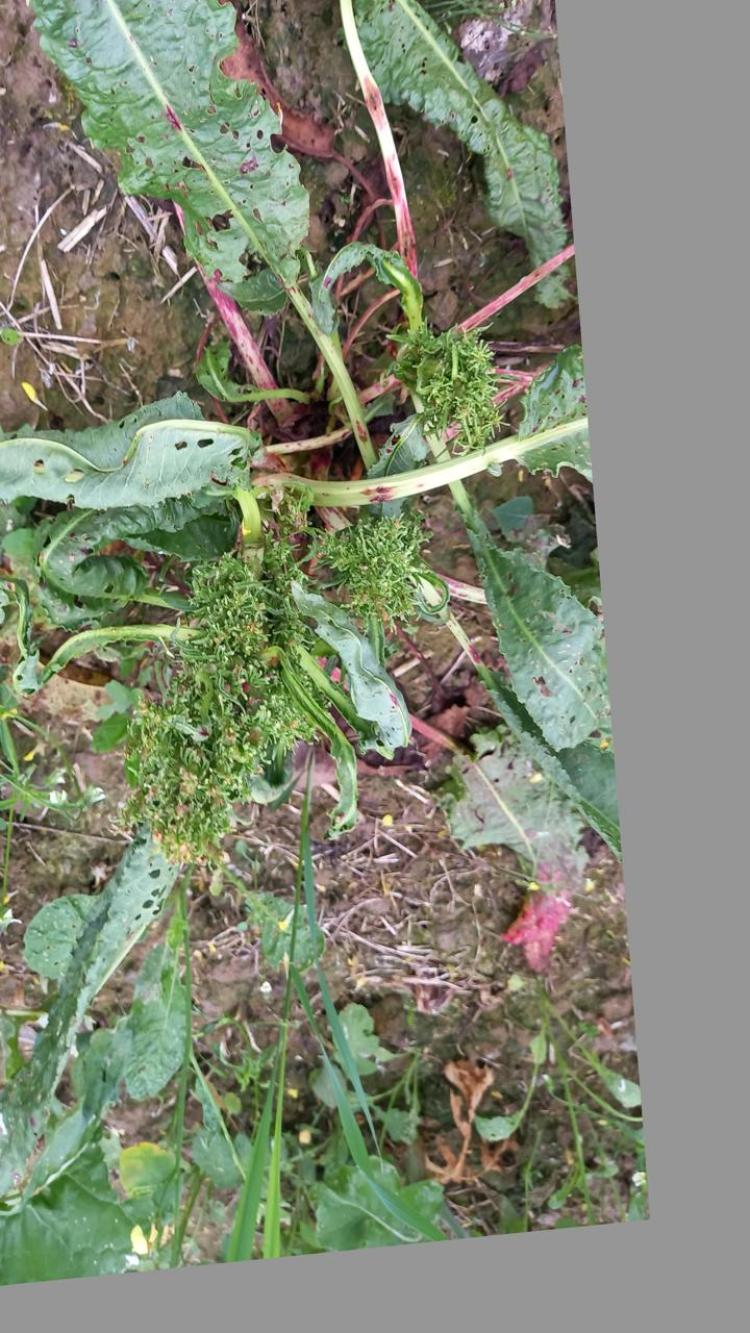zhavel: (0, 0, 635, 889)
